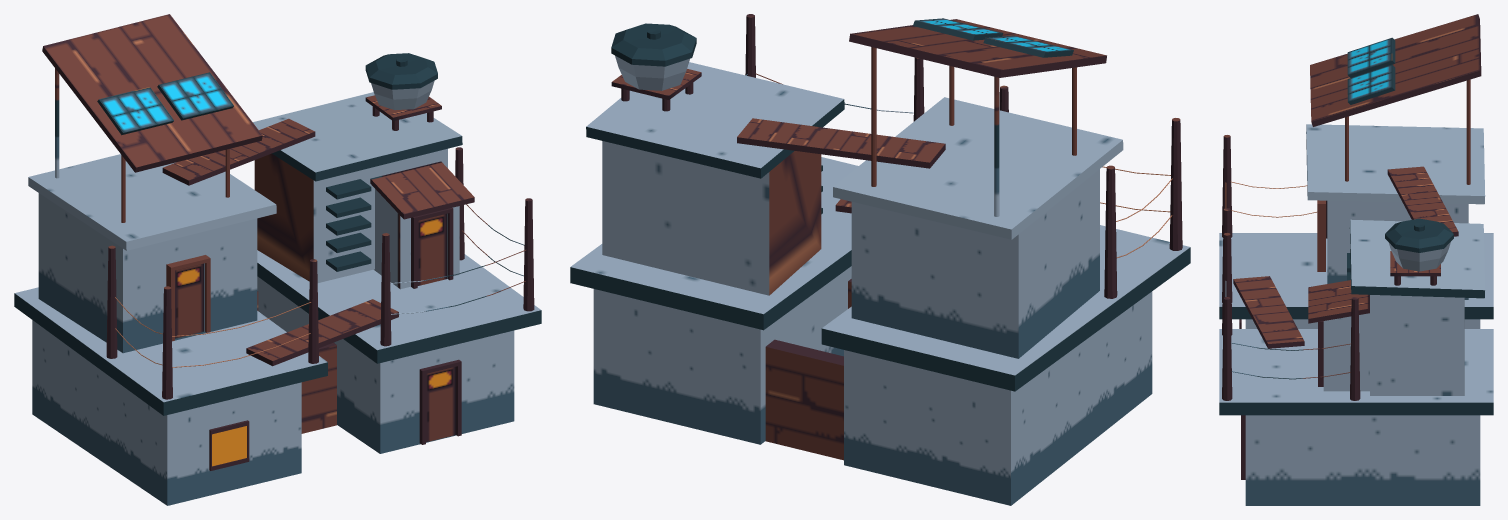
The model's file is Casa7_Erick_2608.fbx.
The picture shows the model from 3 angles, left to right: view 1: azimuth 30°, elevation 25°; view 2: azimuth 150°, elevation 25°; view 3: azimuth 270°, elevation 25°; orthographic projection. The views are drawn at different scales.
Visible parts, largest first — view 1: Casa7; view 2: Casa7; view 3: Casa7.
Part boxes in pixels (x1=…): Casa7: x1=14, y1=14, x2=541, y2=505; Casa7: x1=570, y1=14, x2=1190, y2=505; Casa7: x1=1219, y1=14, x2=1493, y2=505.
Size of the model in its own units: 989 by 673 by 915.
